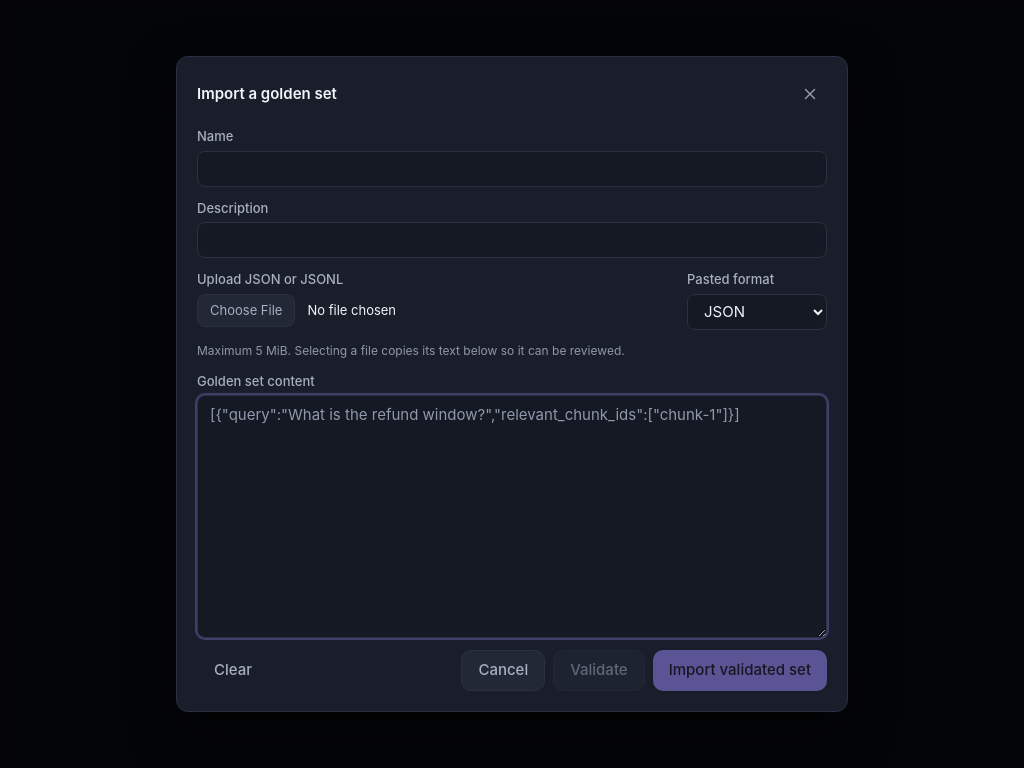
GoldenSetImporter › renders precise malformed-input errors returned by validation
Type keys "[{\"query\":]"
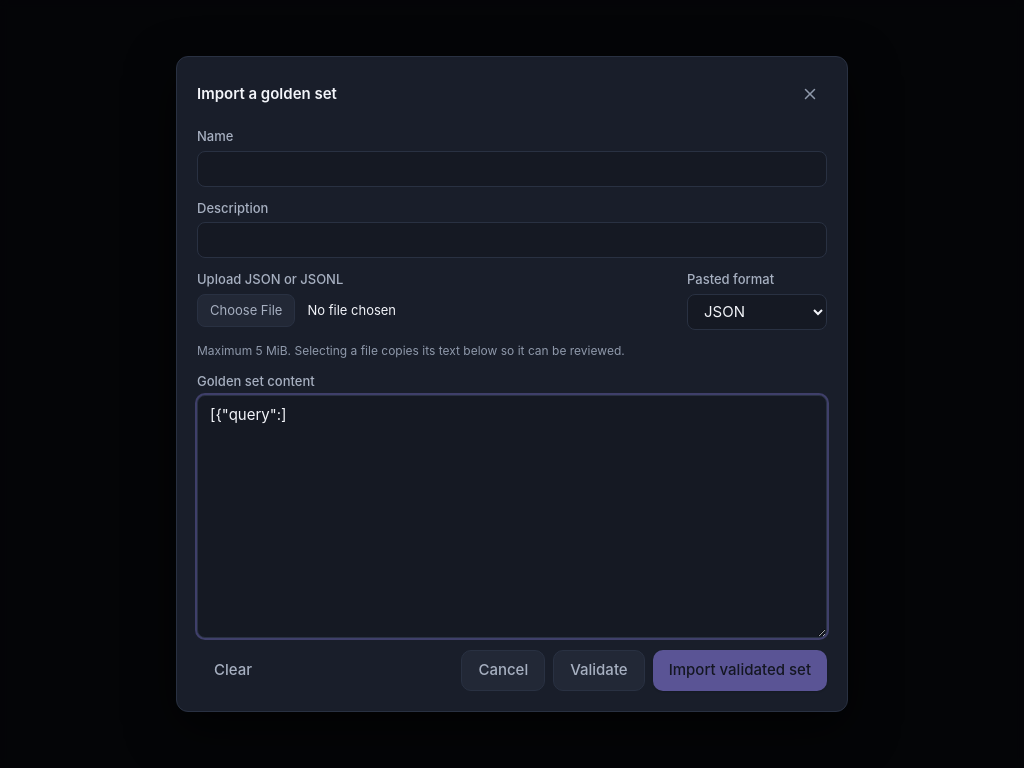
Click the button "Validate" at (599,671), box [553,650,645,691]
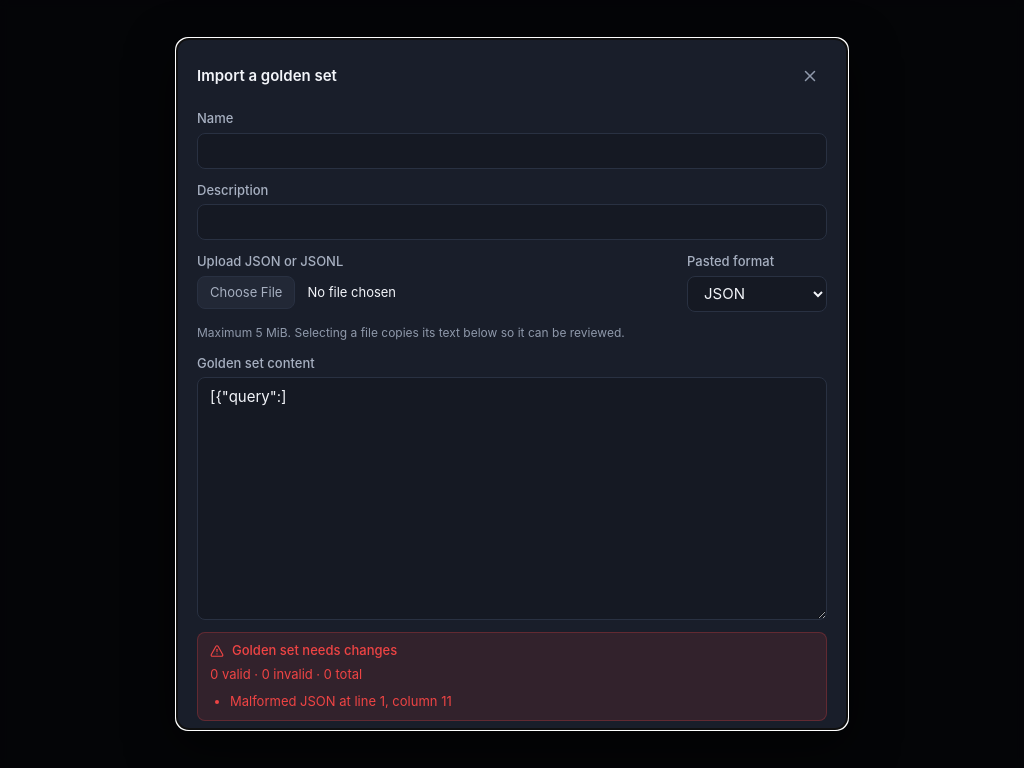
Check: the list item "Malformed JSON at line 1, column 11" is shown, box [230,693,452,709]
